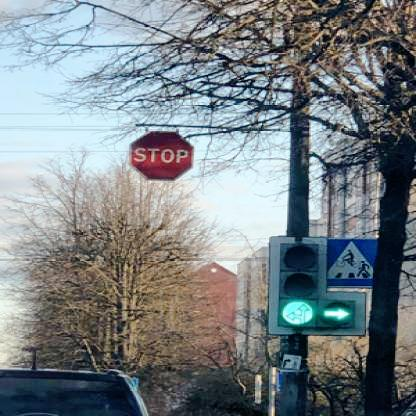Stop Sign: (128, 129, 196, 183)
